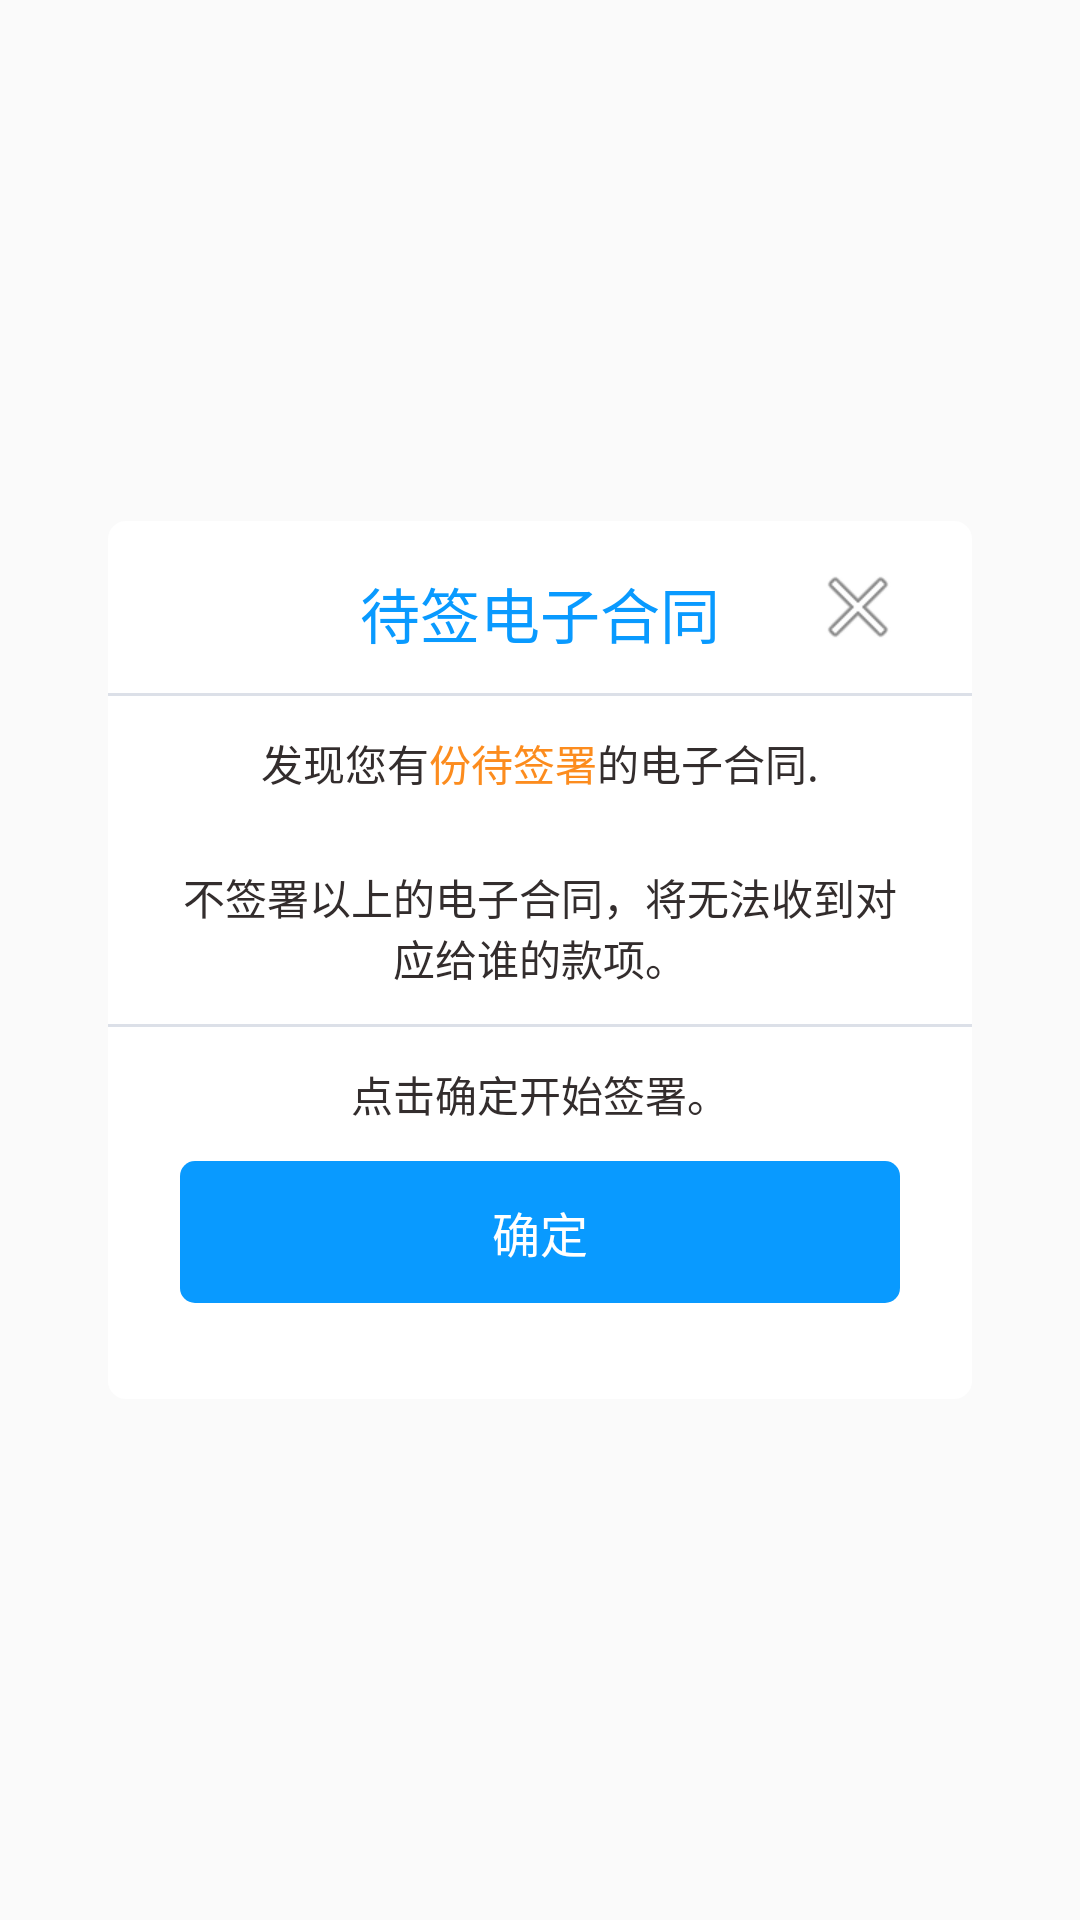

Icon bounding boxes for this 1080 x 1920 phone screenshot, format bbox=[x1, y1, x2, y2]:
close clear cancel: bbox=[828, 577, 888, 637]
